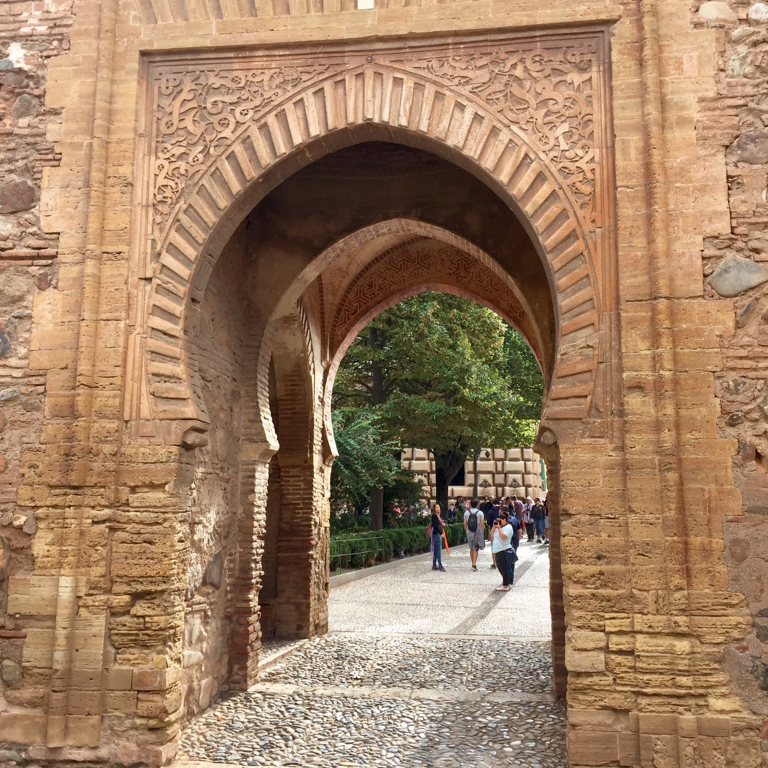arco-herradura: (160, 108, 584, 472)
